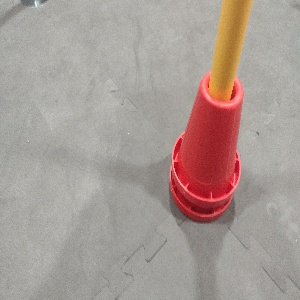Red_2: (165, 65, 245, 225)
